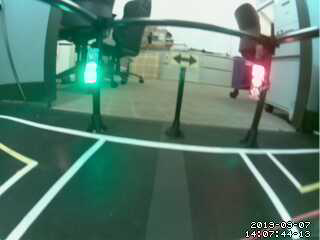Left_Right_sign: (170, 48, 201, 67)
Traffic_light_green: (82, 55, 98, 85)
Traffic_light_red: (250, 64, 267, 101)
